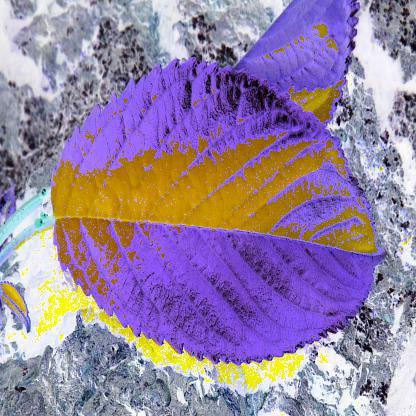Apple leaf: (46, 49, 386, 374)
